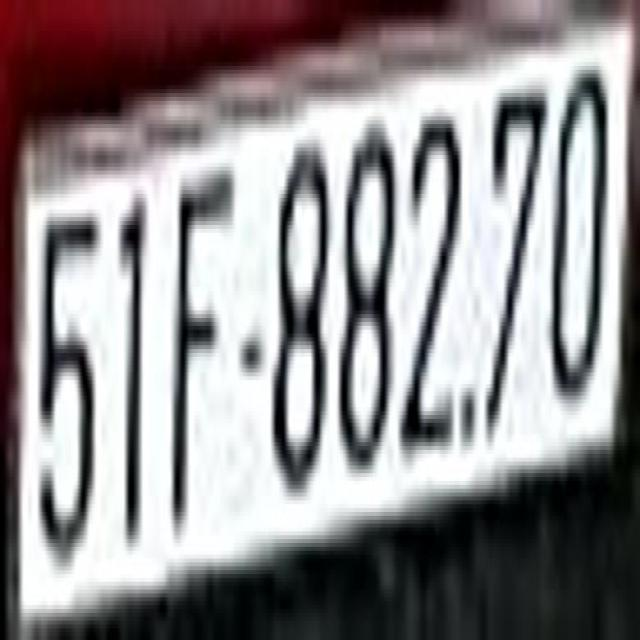0: (552, 70, 611, 427)
1: (114, 198, 150, 554)
2: (400, 105, 461, 454)
5: (41, 198, 97, 551)
7: (482, 85, 546, 450)
8: (267, 120, 330, 516), (340, 112, 394, 485)
F: (171, 151, 234, 524)
